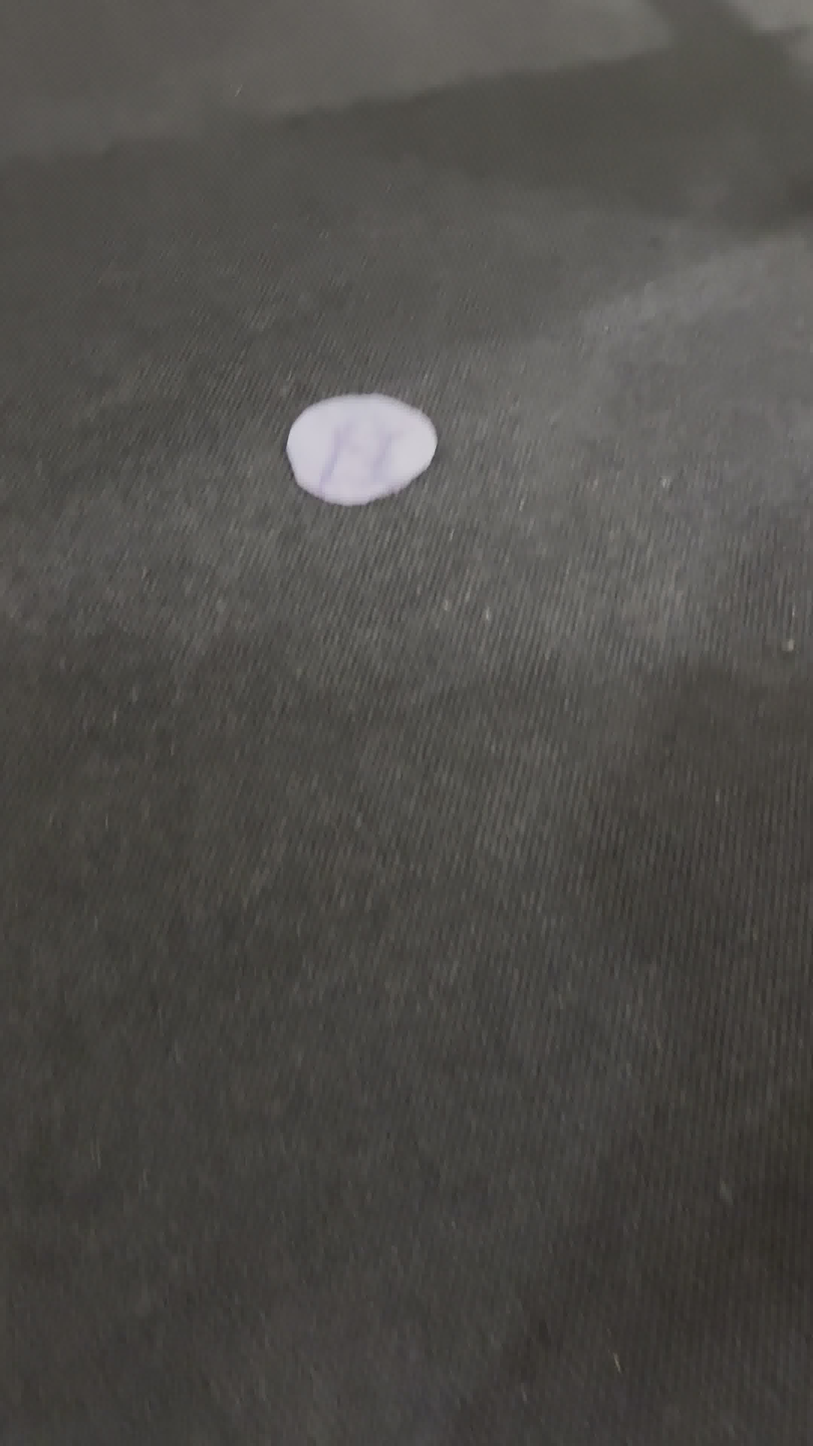Target: (286, 394, 438, 505)
